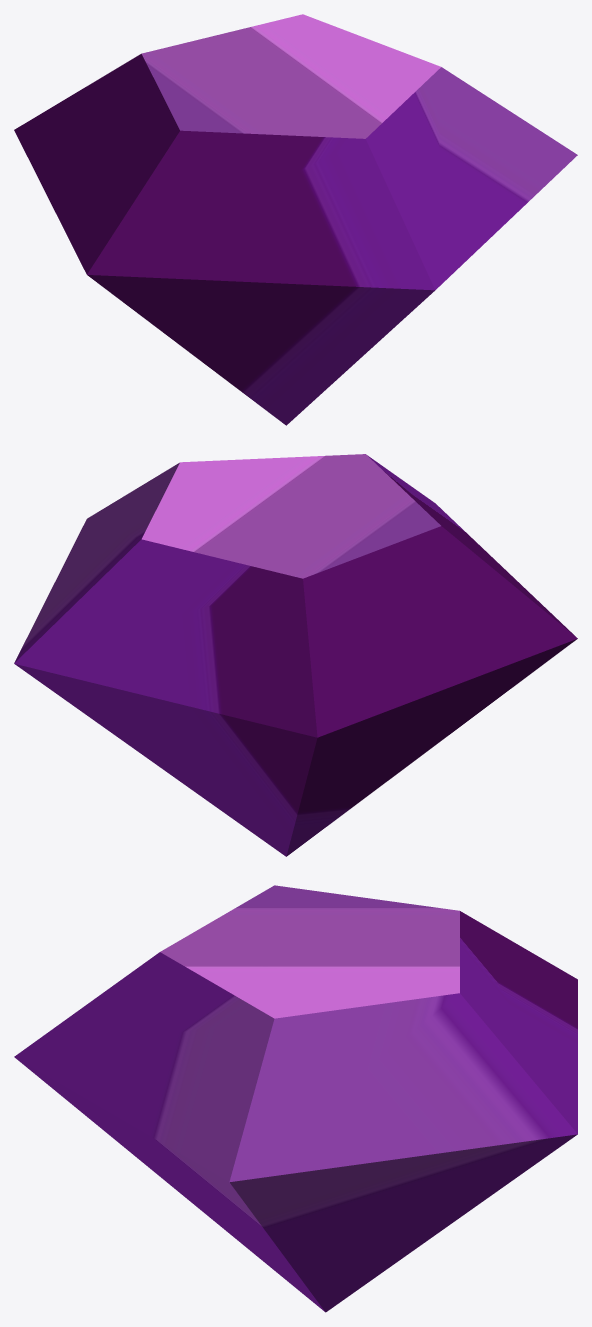
Rendered from diamante2 1.fbx.
The picture shows the model from 3 angles, top to bottom: view 1: azimuth 30°, elevation 25°; view 2: azimuth 150°, elevation 25°; view 3: azimuth 270°, elevation 25°; orthographic projection. The views are drawn at different scales.
Visible parts, largest first — view 1: Cone; view 2: Cone; view 3: Cone.
Boxes of the visible parts, <box> form: Cone: <box>14,14,577,425</box>; Cone: <box>14,454,577,856</box>; Cone: <box>14,885,577,1312</box>.
Size of the model in its own units: 190 by 128 by 181.
